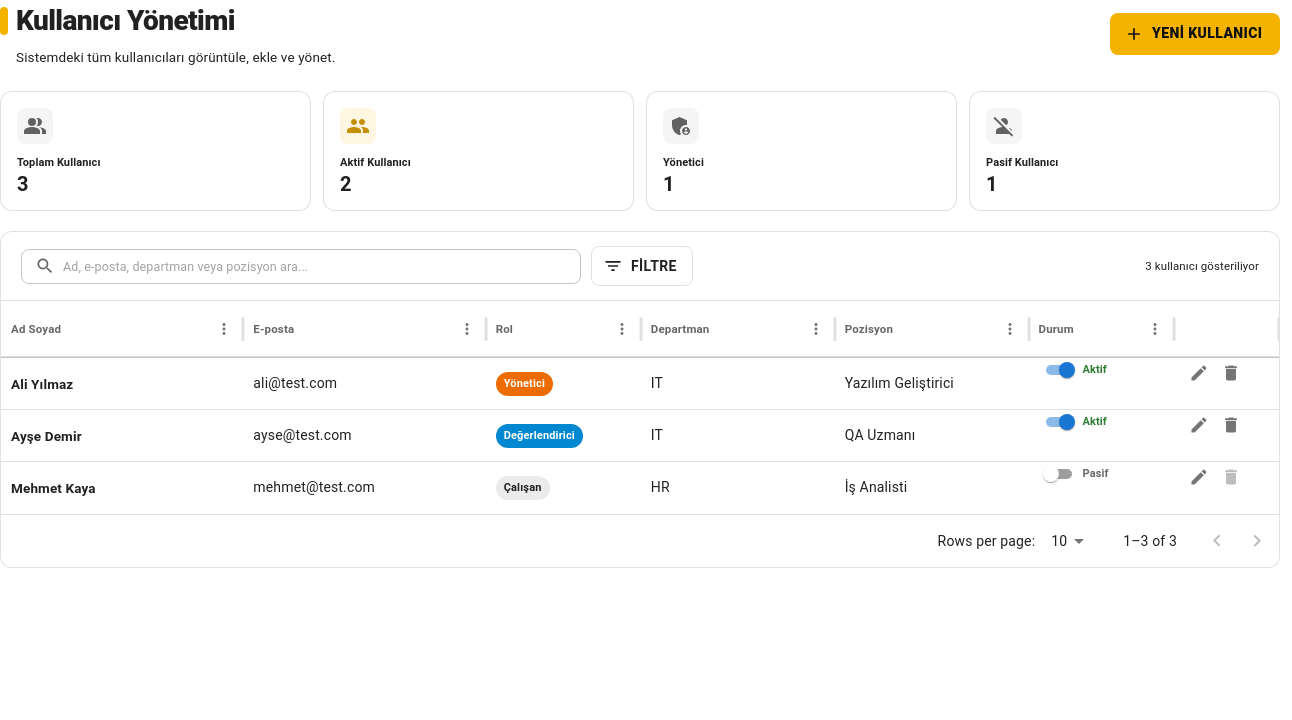
Scenario: UsersPage › arama ile kullanıcıları filtrelemeli
The image size is (1292, 720).
Expected: the text "Ali Yılmaz" is shown, [11,374,73,394]
Type "Ayşe" into the field with placeholder "Ad, e-posta, departman veya pozisyon ara..." at (322, 266), box [63,249,581,284]
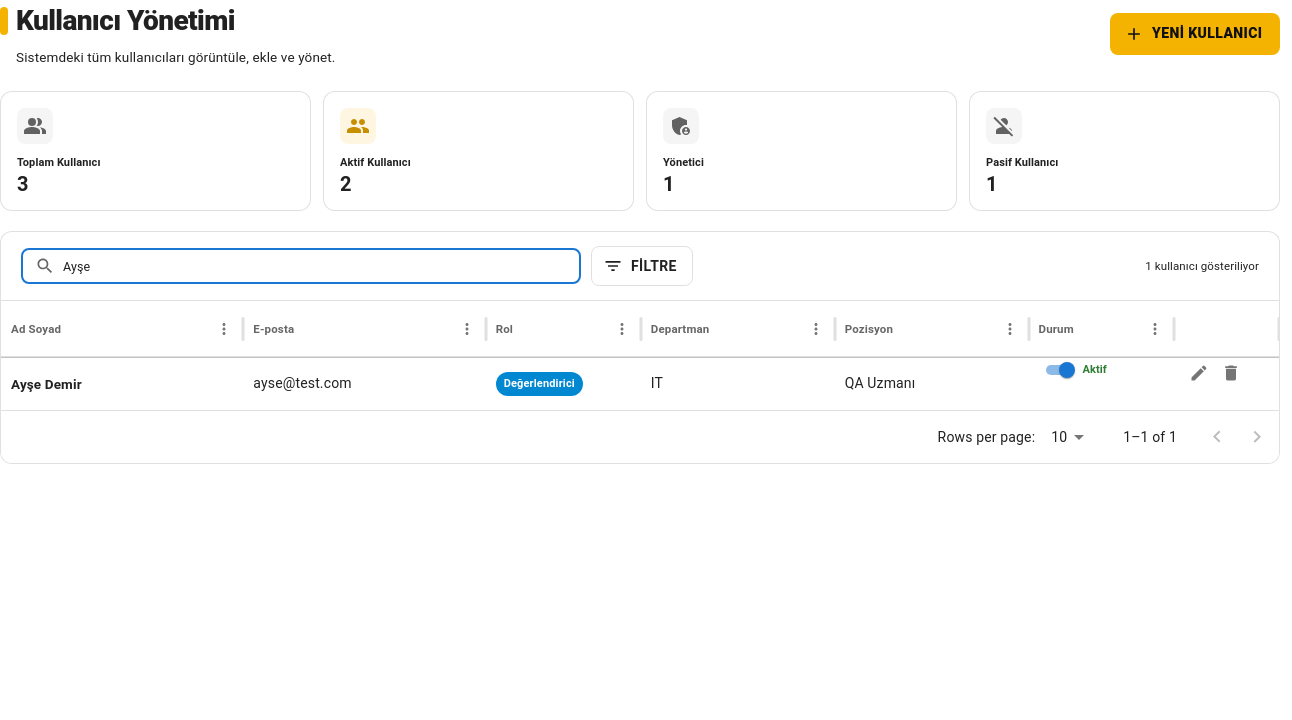
Expected: the text "Ayşe Demir" is shown, [11,374,82,394]
Result: the text "Ali Yılmaz" is gone
Result: the text "Mehmet Kaya" is gone
